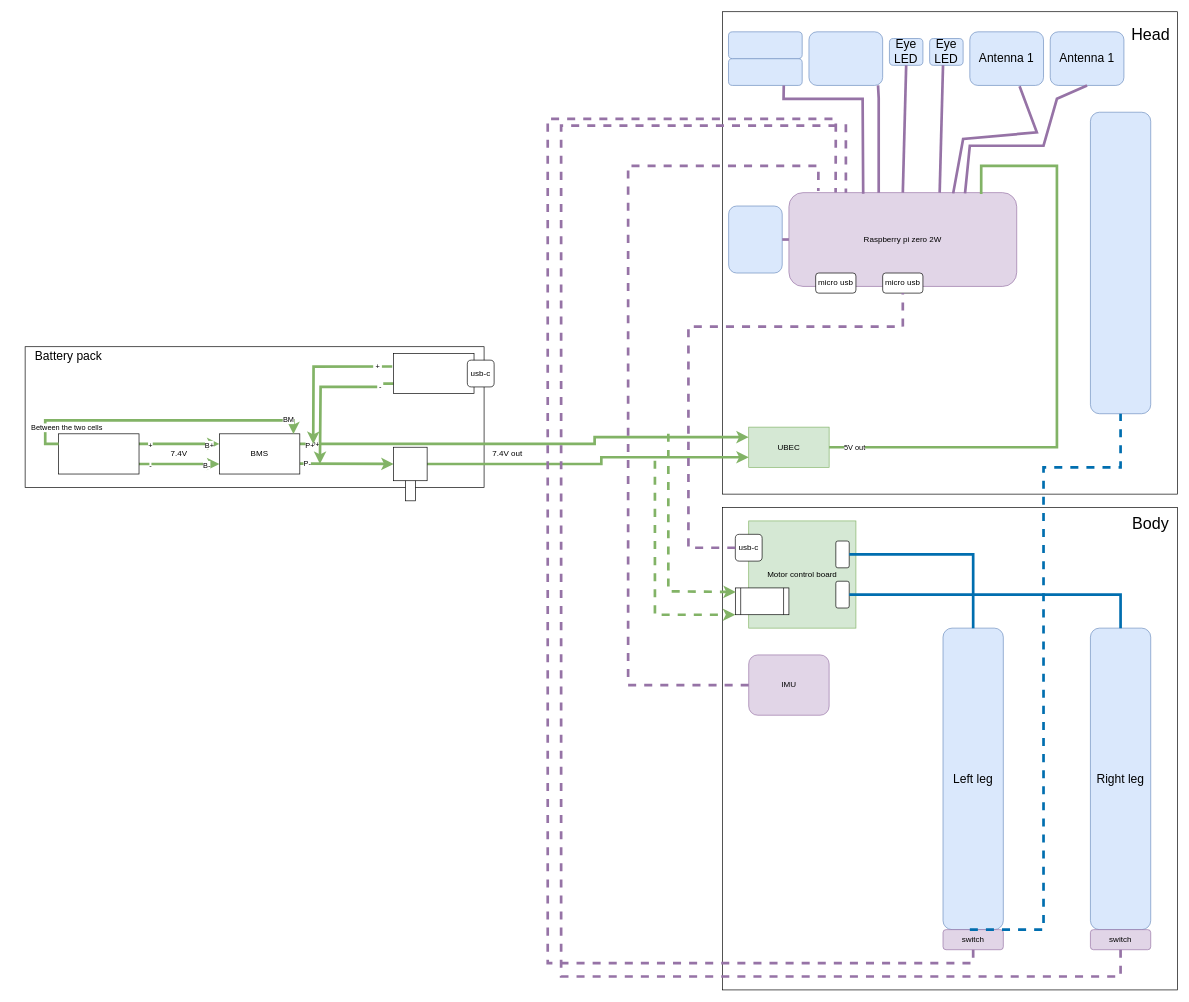
Some shapes in this 1189 by 1002 pixel diagram are drawn without their labels. Here are the shapes that lost their labels. From the top down, the centre of each, then its label:
(765,45): Mic
(845,58): flashlight
(765,71): Speaker
(755,239): Camera
(1120,263): Neck
(433,373): USB-C charger
(98,453): 18650 x2 series
(410,464): power switch
(762,601): 7.4V DC in
